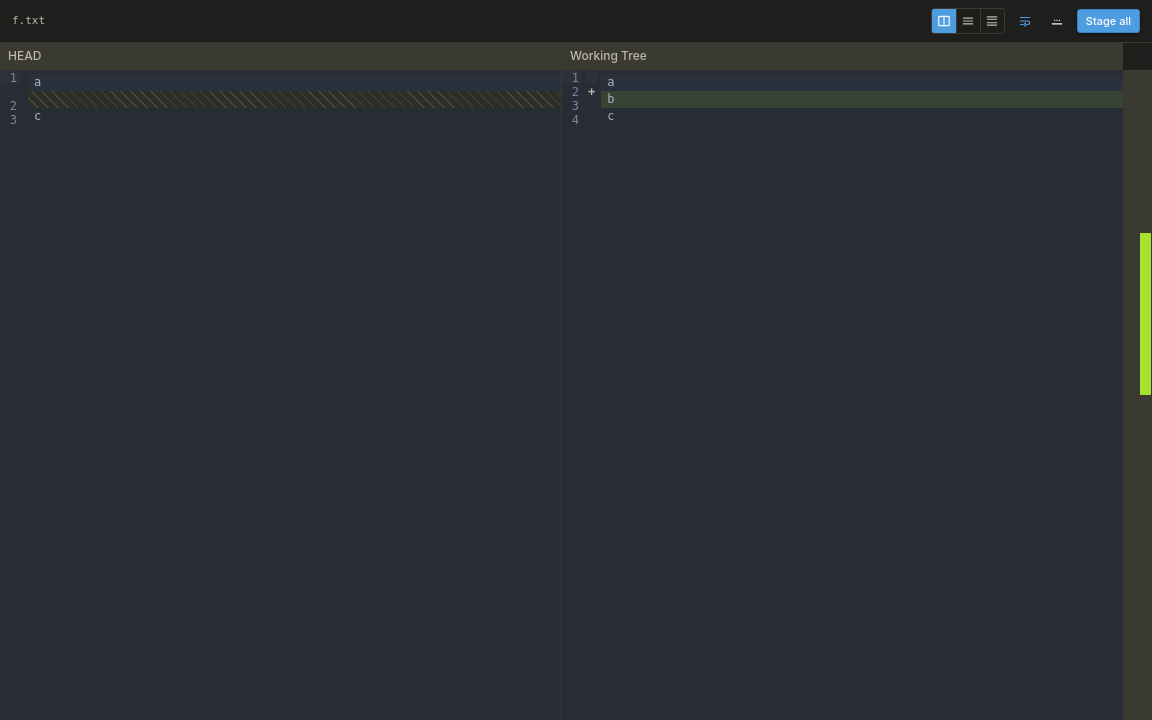
Test: StageFileEditor › switches to a single unified pane in inline view
What coordinates should you click on to do the following:
click the button named "Inline view"
I would click on:
 (968, 21)
Its box is [956,9,980,33].
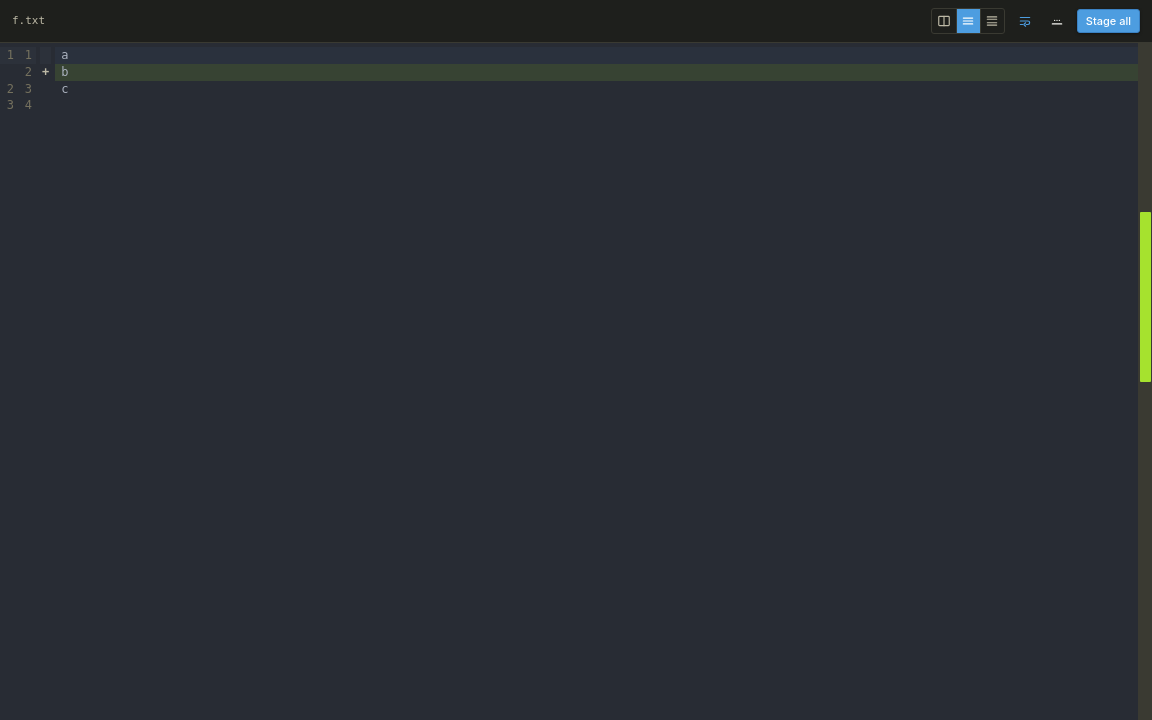
Now the element with test id "worktree-pane" is gone
